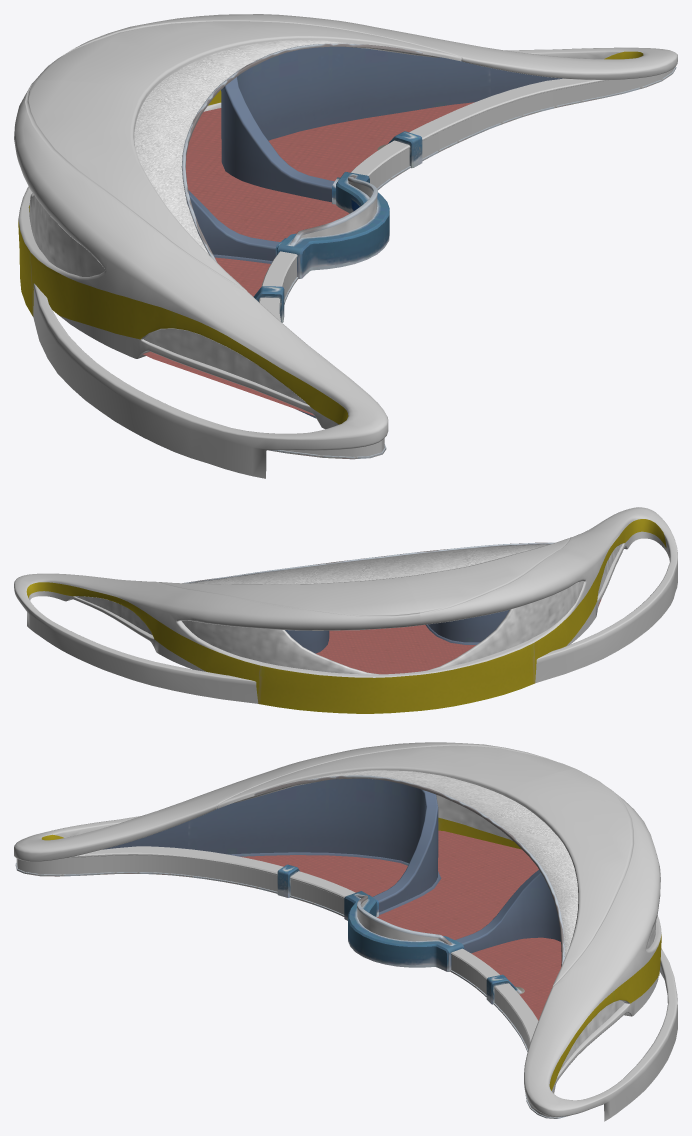
Rendered from pref_sm_beach_winter_techpagoda01_mirror_lv3.fbx.
3 views of the same model, one above another, from view 1: azimuth 30°, elevation 25°; view 2: azimuth 150°, elevation 25°; view 3: azimuth 270°, elevation 25° (orthographic). The views are drawn at different scales.
Visible parts, largest first — view 1: sm_beach_techpagoda01_mirror_b_lv3, sm_beach_techpagoda01_mirror_d_lv3, sm_beach_techpagoda01_mirror_e_lv3, sm_beach_techpagoda01_mirror_c_lv3, sm_beach_techpagoda01_mirror_a_lv3; view 2: sm_beach_techpagoda01_mirror_c_lv3, sm_beach_techpagoda01_mirror_b_lv3, sm_beach_techpagoda01_mirror_d_lv3, sm_beach_techpagoda01_mirror_a_lv3, sm_beach_techpagoda01_mirror_e_lv3; view 3: sm_beach_techpagoda01_mirror_d_lv3, sm_beach_techpagoda01_mirror_c_lv3, sm_beach_techpagoda01_mirror_b_lv3, sm_beach_techpagoda01_mirror_e_lv3, sm_beach_techpagoda01_mirror_a_lv3.
Boxes of the visible parts, box(x1,y1,x2,y2) form: sm_beach_techpagoda01_mirror_b_lv3: box(14, 80, 388, 478); sm_beach_techpagoda01_mirror_d_lv3: box(18, 89, 474, 459); sm_beach_techpagoda01_mirror_e_lv3: box(208, 43, 676, 202); sm_beach_techpagoda01_mirror_c_lv3: box(32, 14, 677, 111); sm_beach_techpagoda01_mirror_a_lv3: box(29, 40, 439, 404); sm_beach_techpagoda01_mirror_c_lv3: box(14, 573, 420, 703); sm_beach_techpagoda01_mirror_b_lv3: box(404, 507, 677, 683); sm_beach_techpagoda01_mirror_d_lv3: box(316, 519, 666, 711); sm_beach_techpagoda01_mirror_a_lv3: box(75, 544, 622, 674); sm_beach_techpagoda01_mirror_e_lv3: box(26, 556, 405, 713); sm_beach_techpagoda01_mirror_d_lv3: box(15, 775, 561, 1020); sm_beach_techpagoda01_mirror_c_lv3: box(505, 768, 677, 1121); sm_beach_techpagoda01_mirror_b_lv3: box(14, 742, 575, 861); sm_beach_techpagoda01_mirror_e_lv3: box(450, 809, 661, 1118); sm_beach_techpagoda01_mirror_a_lv3: box(233, 770, 656, 1071).
Bounding box in the file's own units: 48.73 × 9.82 × 45.2.
